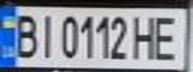0: (57, 11, 78, 60)
1: (93, 11, 112, 60), (78, 11, 96, 60)
2: (109, 11, 133, 61)
B: (9, 10, 42, 60)
E: (151, 11, 184, 61)
H: (130, 11, 160, 61)
I: (33, 10, 57, 60)
